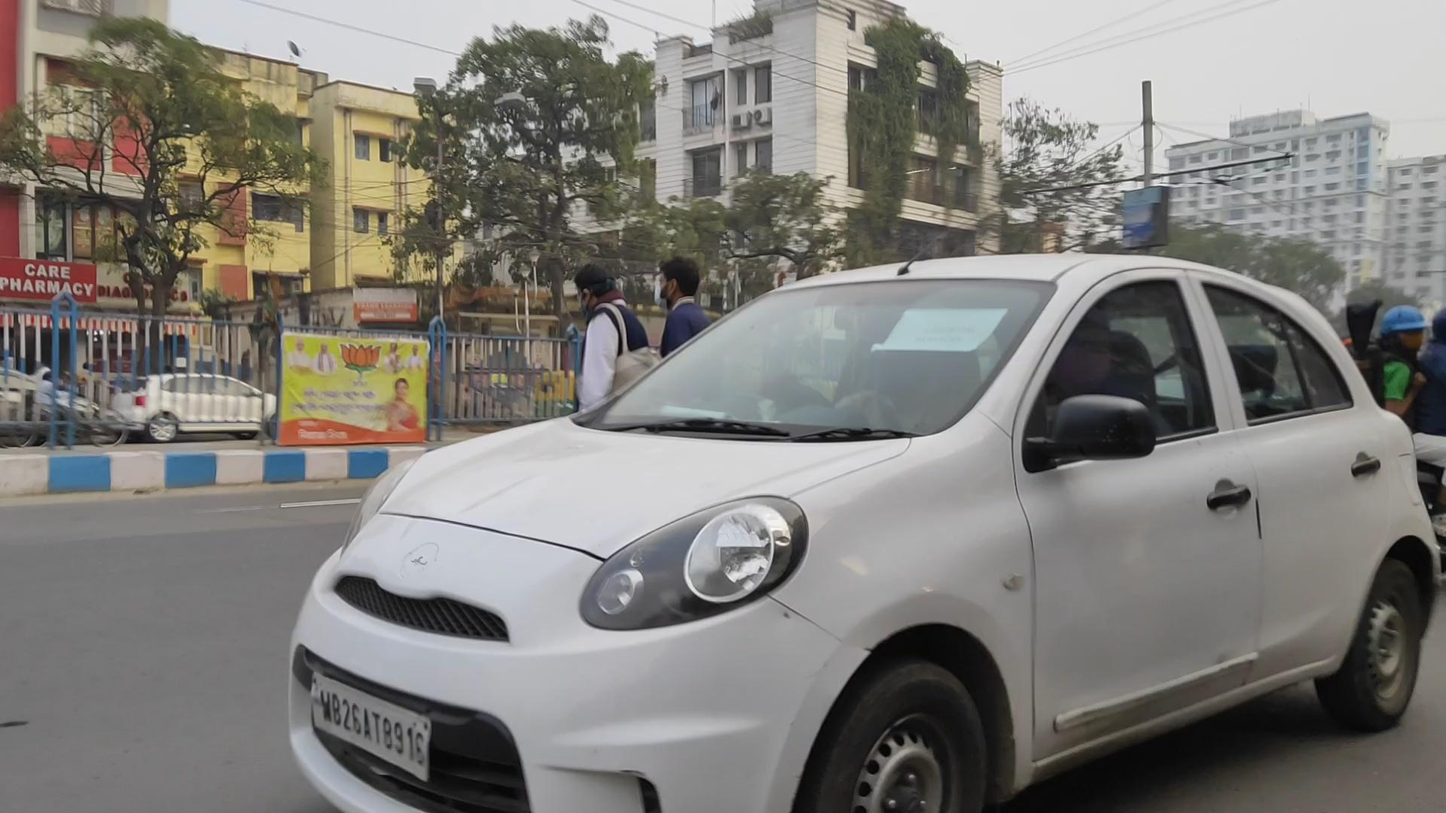car: (286, 253, 1439, 813)
